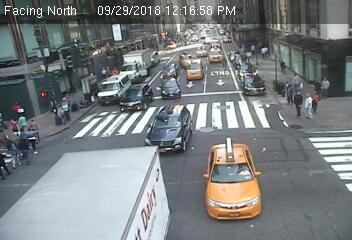car: (8, 151, 173, 240), (206, 137, 260, 219), (145, 105, 190, 154), (119, 49, 152, 85), (97, 73, 129, 104), (120, 86, 153, 109), (160, 77, 183, 99), (241, 77, 265, 94), (234, 63, 260, 78), (185, 59, 204, 79), (158, 60, 180, 77), (206, 45, 222, 62), (231, 55, 249, 65), (197, 43, 206, 57), (227, 50, 242, 58)
